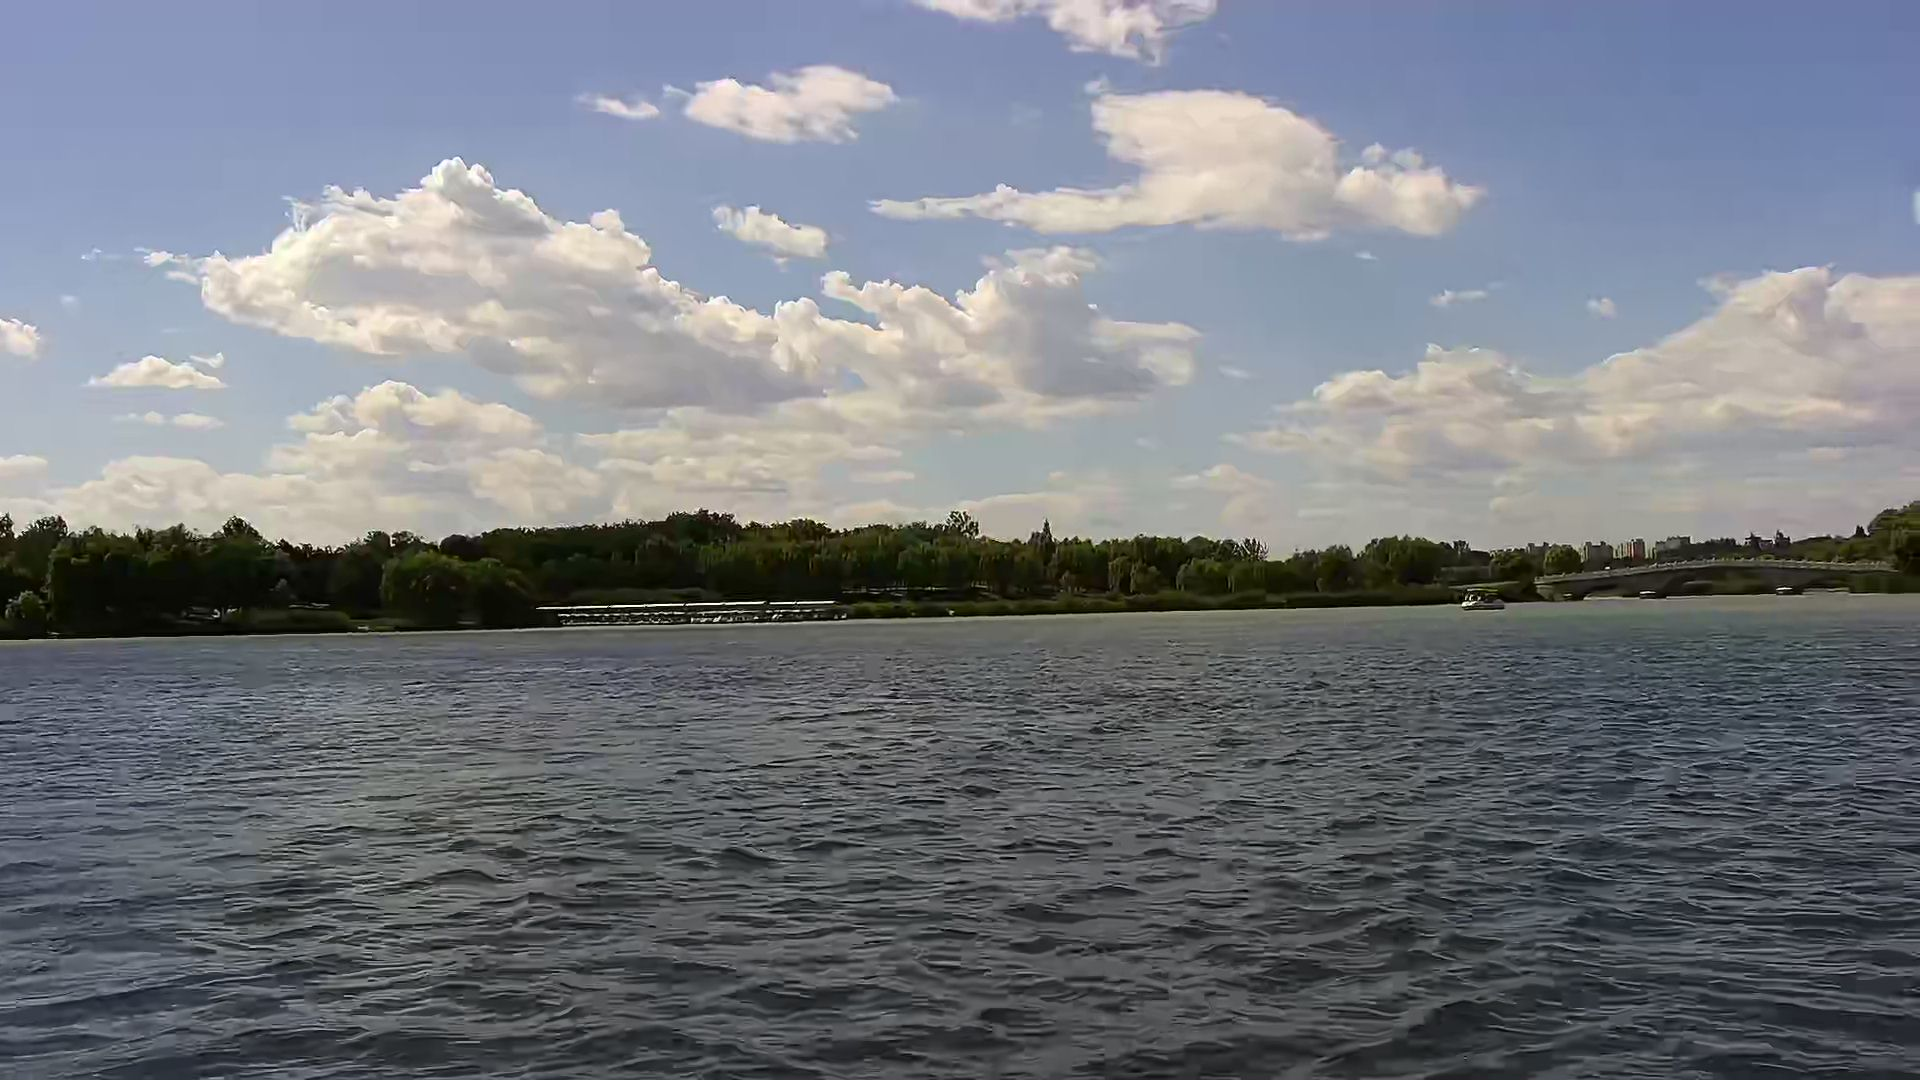boat: (1462, 584, 1505, 612)
bridge: (1528, 559, 1912, 603), (547, 597, 833, 622)
